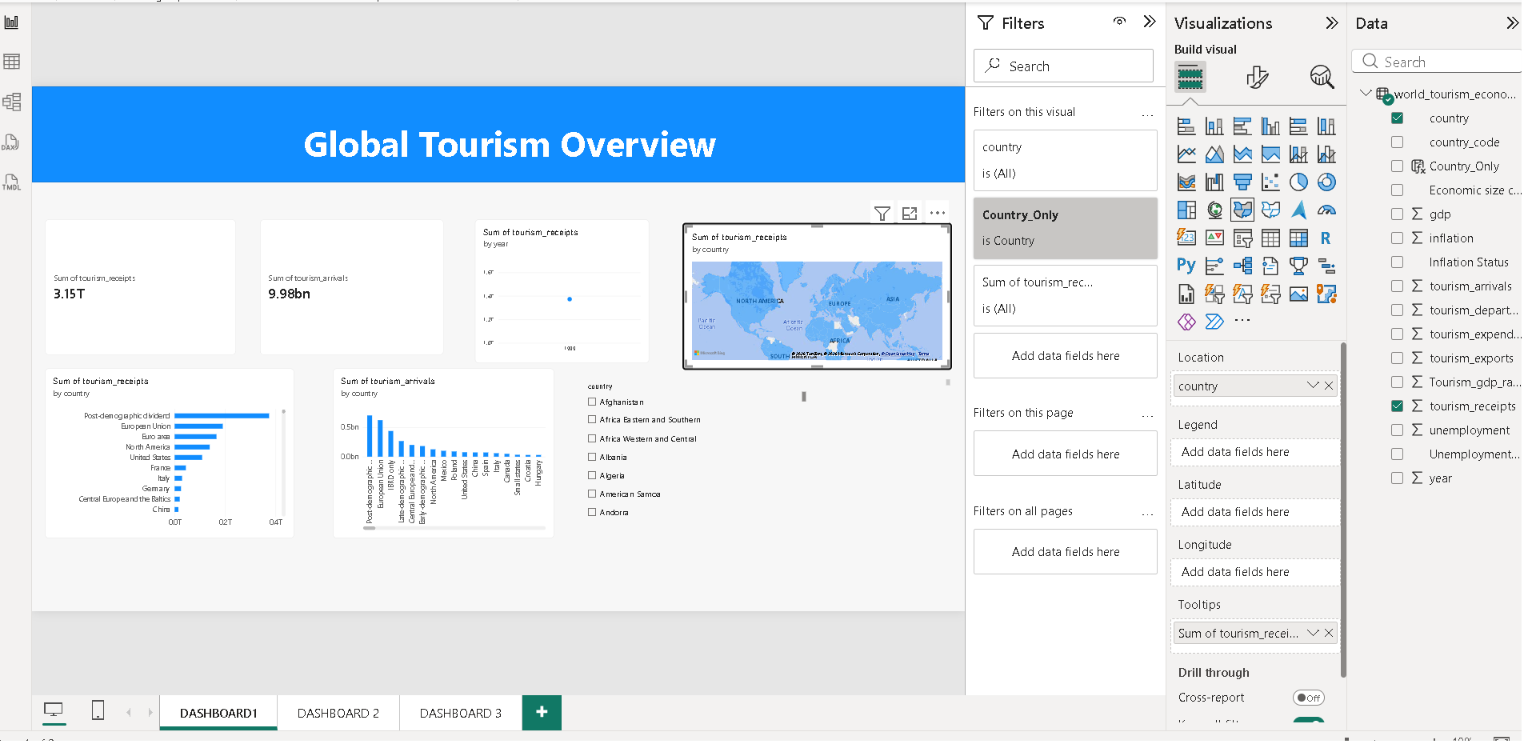

The dashboard page shown, as its layout file describes it:
{"tool":"powerbi","page":{"name":"DASHBOARD1","canvas":[1920,1080],"ordinal":0},"visuals":[{"type":"textbox","box":[10.3,0,1889.5,135.8],"z":0},{"type":"shape","box":[0,0,1920.4,197.6],"z":1},{"type":"textbox","box":[0,338,1890,150],"z":2},{"type":"textbox","box":[0,603.1,1889.5,12.3],"z":3},{"type":"textbox","box":[76.2,67.9,1813.4,109.1],"z":4},{"type":"cardVisual","fields":{"Data":["Sum(world_tourism_economy_data.tourism_receipts)"]},"box":[26.8,273.8,393.1,279.9],"z":5},{"type":"cardVisual","fields":{"Data":["Sum(world_tourism_economy_data.tourism_arrivals)"]},"box":[469.3,273.8,378.7,279.9],"z":6},{"type":"clusteredBarChart","fields":{"Category":["world_tourism_economy_data.country"],"Y":["Sum(world_tourism_economy_data.tourism_receipts)"]},"box":[26.8,580.4,512.5,349.9],"z":7},{"type":"clusteredColumnChart","fields":{"Category":["world_tourism_economy_data.country"],"Y":["Sum(world_tourism_economy_data.tourism_arrivals)"]},"box":[619.6,580.4,454.9,349.9],"z":8},{"type":"lineChart","fields":{"Category":["world_tourism_economy_data.year"],"Y":["Sum(world_tourism_economy_data.tourism_receipts)"]},"box":[911.8,273.8,358.1,296.4],"z":9},{"type":"slicer","fields":{"Values":["world_tourism_economy_data.country"]},"box":[1136.2,609.3,457,296],"z":10},{"type":"filledMap","fields":{"Category":["world_tourism_economy_data.country"]},"box":[1342,284,547.5,296.4],"z":11}]}

Visuals, with their boxes on the page's 1920x1080 design canvas (x1, y1, x2, y2). These are canvas units, not pixel positions in the 1522x741 screenshot, which may show the page scaled, cropped or inside an application window:
textbox: 10/0/1900/136
shape: 0/0/1920/198
textbox: 0/338/1890/488
textbox: 0/603/1890/615
textbox: 76/68/1890/177
cardVisual - Sum(world_tourism_economy_data.tourism_receipts): 27/274/420/554
cardVisual - Sum(world_tourism_economy_data.tourism_arrivals): 469/274/848/554
clusteredBarChart - world_tourism_economy_data.country x Sum(world_tourism_economy_data.tourism_receipts): 27/580/539/930
clusteredColumnChart - world_tourism_economy_data.country x Sum(world_tourism_economy_data.tourism_arrivals): 620/580/1074/930
lineChart - world_tourism_economy_data.year x Sum(world_tourism_economy_data.tourism_receipts): 912/274/1270/570
slicer - world_tourism_economy_data.country: 1136/609/1593/905
filledMap - world_tourism_economy_data.country: 1342/284/1890/580
